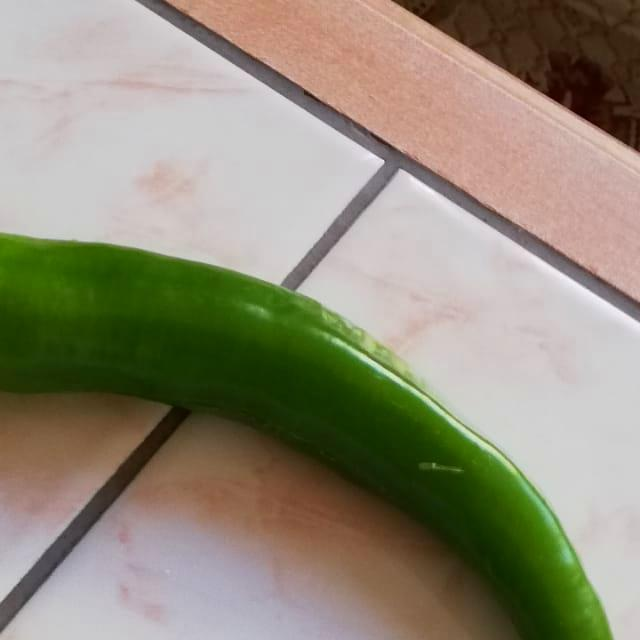chili_pepper: (0, 189, 638, 640)
